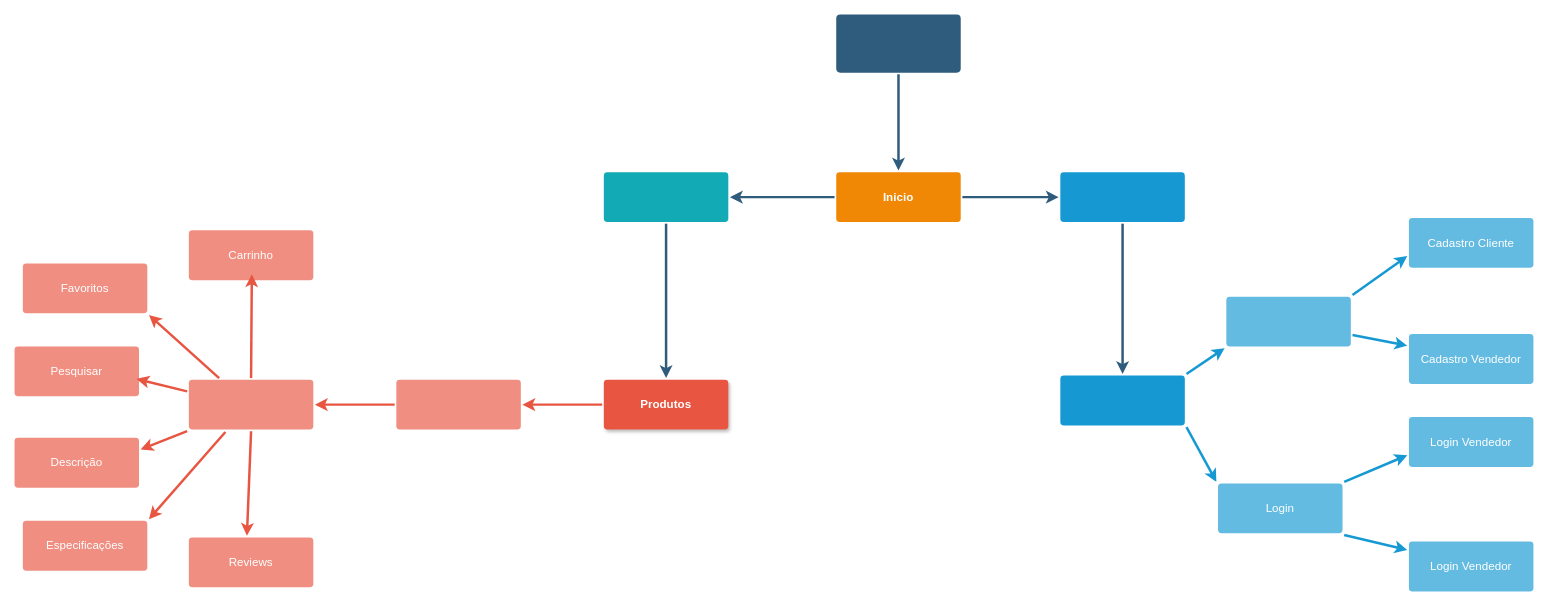
This 1547x605 diagram has some shape labels left out. The centre of each missing label's shape, as x and y in pixels:
Cadastrar: the point at 1288,321
Contate-nos: the point at 1122,197
Lista de Produtos: the point at 458,404
Minha Conta: the point at 1122,400
PlayUsados: the point at 898,43
Produto: the point at 250,404
Páginas: the point at 665,197
